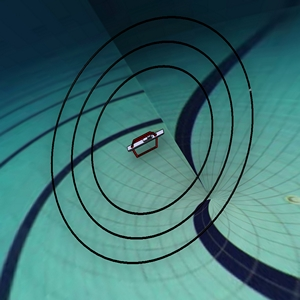circle: (53, 12, 261, 265)
submarine: (123, 124, 168, 161)
